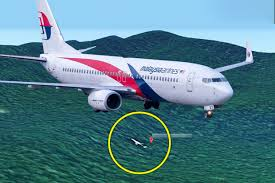maybay_dansu: (6, 6, 250, 115)
